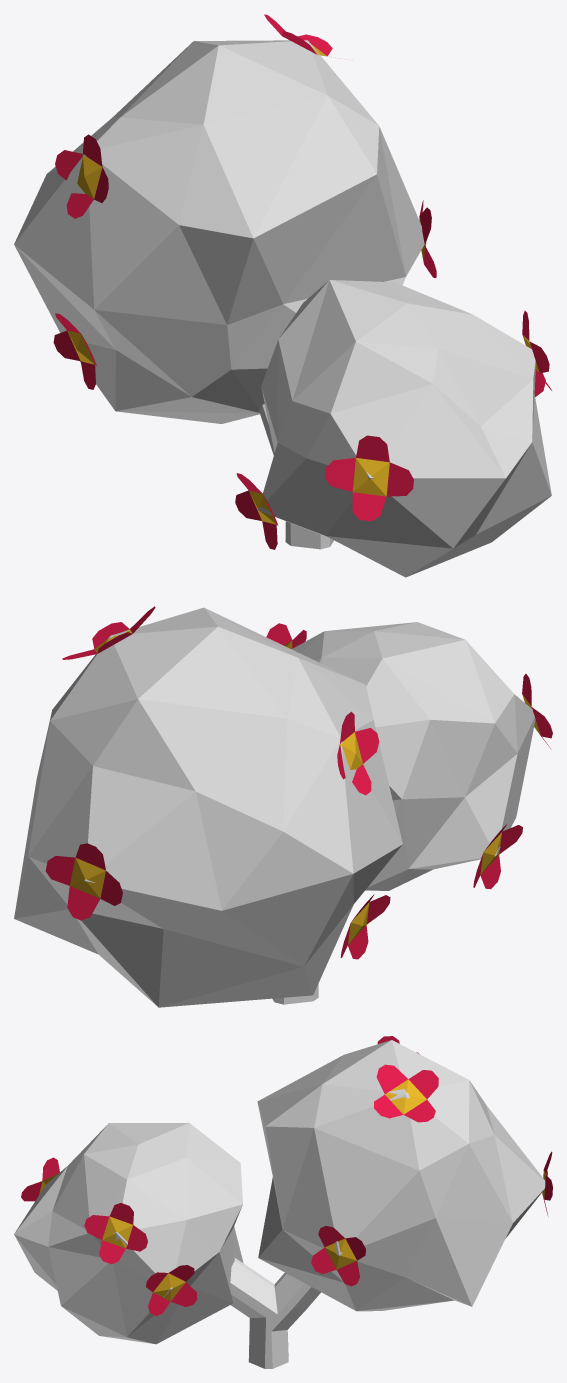
Rendered from Bush.fbx.
3 views of the same model, one above another, from view 1: azimuth 30°, elevation 25°; view 2: azimuth 150°, elevation 25°; view 3: azimuth 270°, elevation 25° (orthographic). The views are drawn at different scales.
Visible parts, largest first — view 1: BUSH; view 2: BUSH; view 3: BUSH.
Boxes of the visible parts, x1,y1,x2,y2 form: BUSH: (14,14,551,577); BUSH: (14,606,552,1007); BUSH: (14,1036,552,1368).
Size of the model in its own units: 91.35 by 106 by 163.
